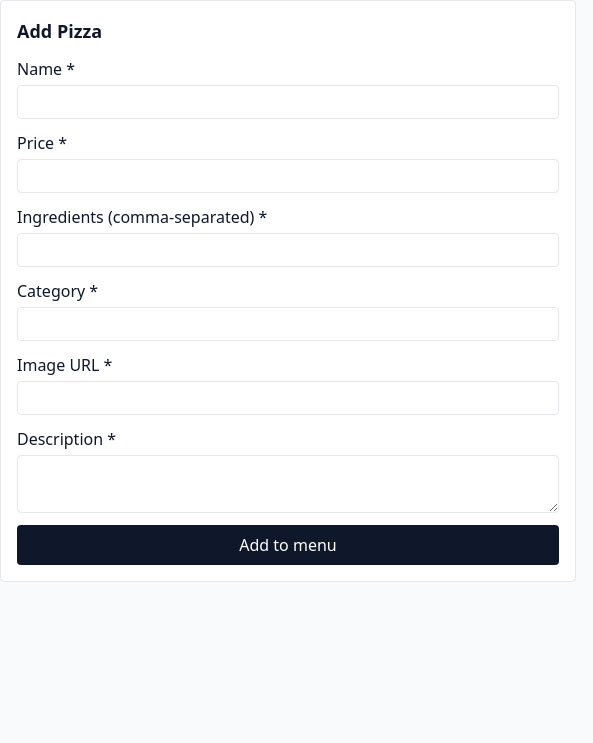
Scenario: AddPizza form › shows validation errors
Click the button "Add to menu": (288, 545) [17,525,559,565]
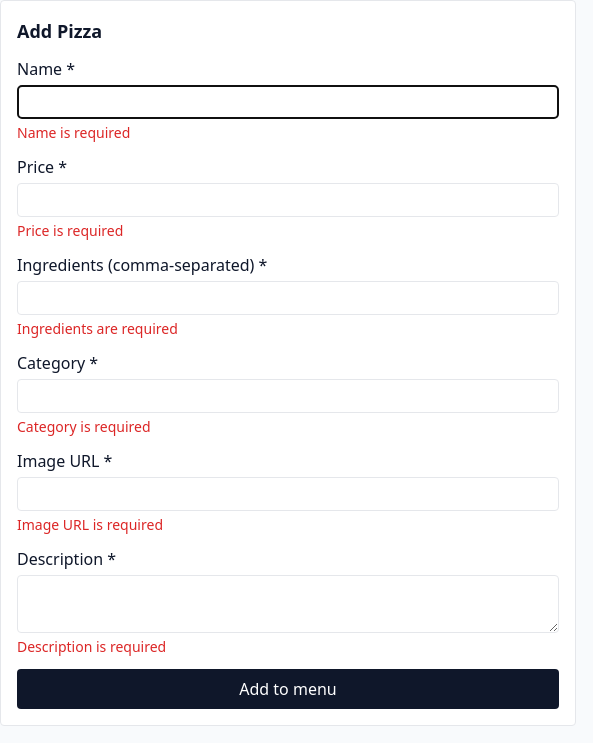
Expected: the text "Name is required" is shown, [17,123,130,142]
Expected: the text "Price is required" is shown, [17,221,123,240]
Expected: the text "Ingredients are required" is shown, [17,319,178,338]
